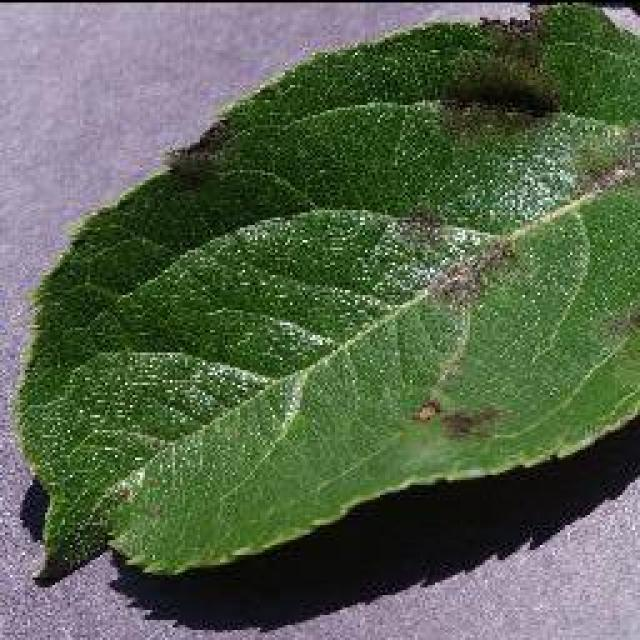apple scab disease: (10, 3, 638, 585)
